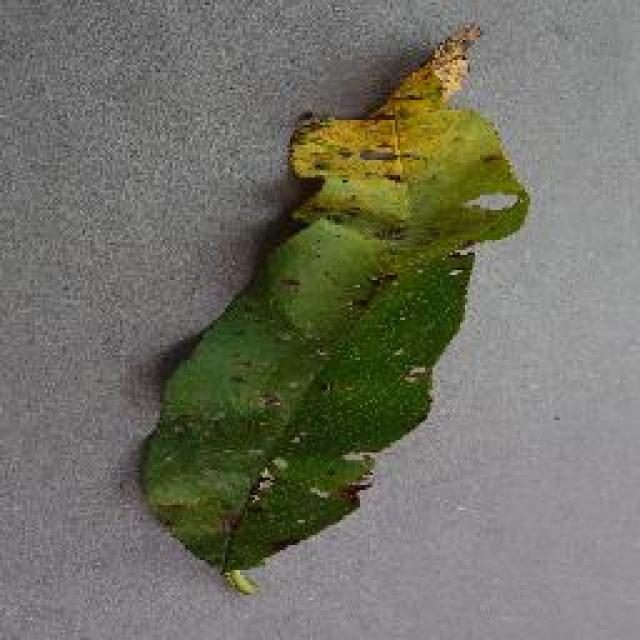Peach_Bacterial_Spot: (277, 70, 528, 525)
